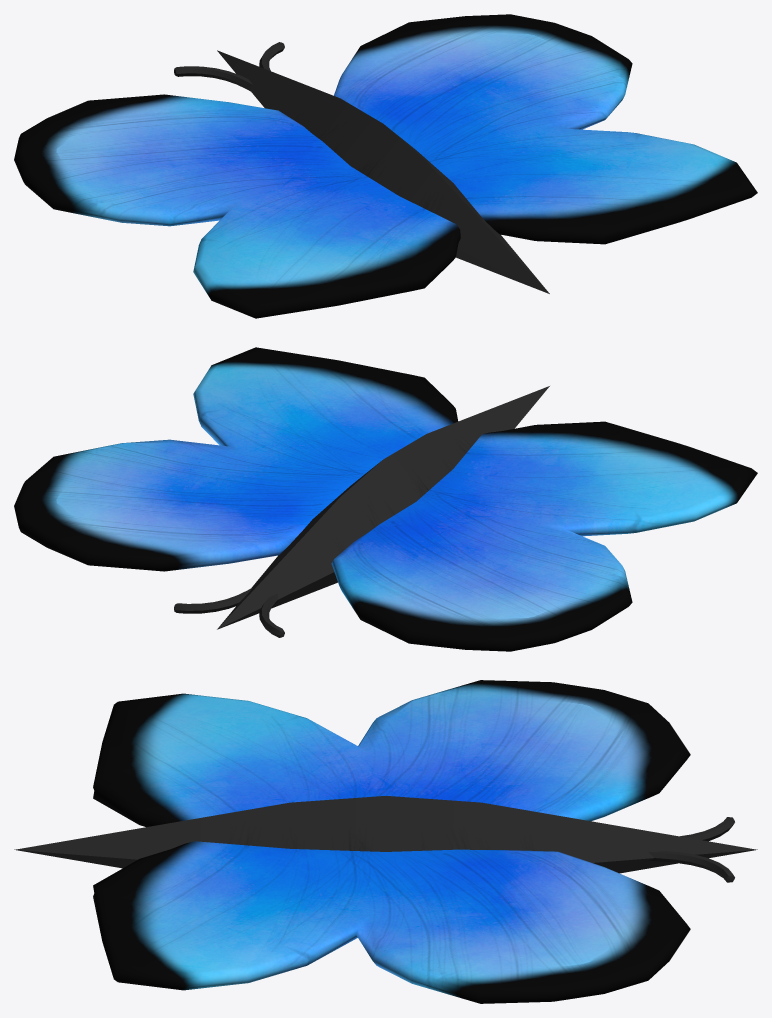
File: tyoutyo_lv3.fbx
The picture shows the model from 3 angles, top to bottom: view 1: azimuth 30°, elevation 25°; view 2: azimuth 150°, elevation 25°; view 3: azimuth 270°, elevation 25°; orthographic projection. The views are drawn at different scales.
Parts seen in each view (by area): view 1: 平面.001, 平面.006, body.001; view 2: 平面.001, 平面.006, body.001; view 3: 平面.006, 平面.001, body.001.
Boxes of the visible parts, x1=… form: 平面.001: x1=14, y1=94, x2=460, y2=318; 平面.006: x1=334, y1=14, x2=757, y2=244; body.001: x1=174, y1=42, x2=549, y2=293; 平面.001: x1=331, y1=421, x2=757, y2=651; 平面.006: x1=14, y1=347, x2=458, y2=571; body.001: x1=174, y1=386, x2=549, y2=637; 平面.006: x1=93, y1=841, x2=690, y2=1003; 平面.001: x1=93, y1=680, x2=690, y2=827; body.001: x1=14, y1=796, x2=757, y2=882.
Size of the model in its own units: 1510 by 240 by 1499.
